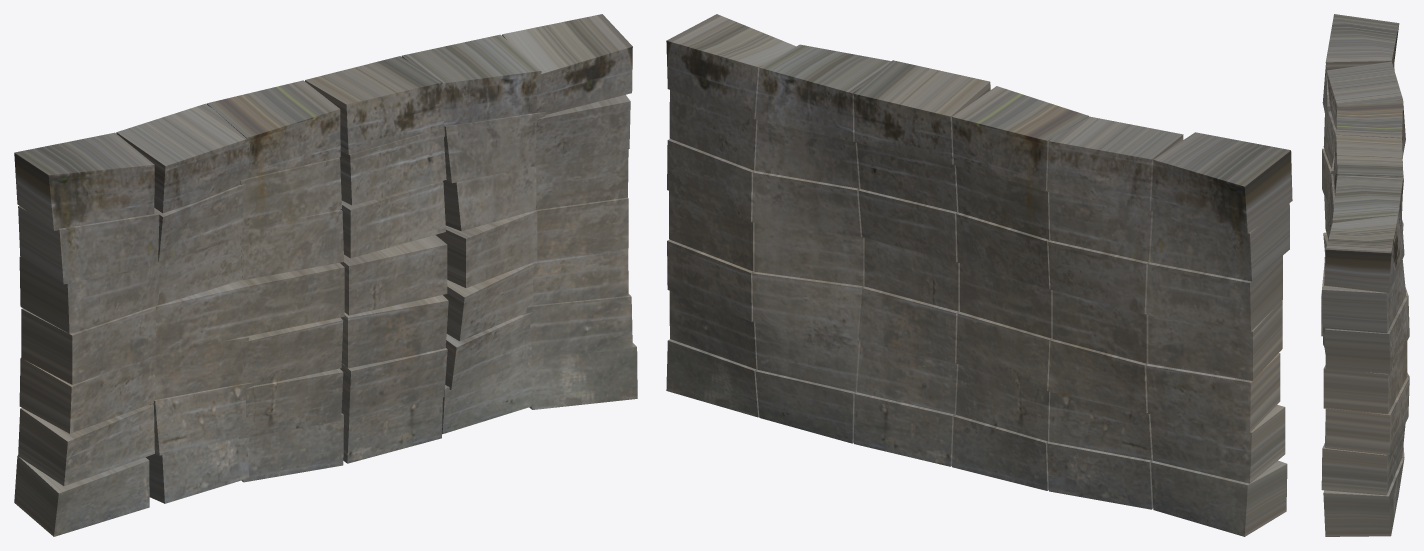
File: stone_wall_square.fbx
3 renders of one model, left to right at view 1: azimuth 30°, elevation 25°; view 2: azimuth 150°, elevation 25°; view 3: azimuth 270°, elevation 25°, orthographic. The views are drawn at different scales.
Visible parts, largest first — view 1: stone_wall; view 2: stone_wall; view 3: stone_wall.
Part boxes in pixels (x1,y1,x2,y2): stone_wall: (14,14,637,536); stone_wall: (666,14,1292,536); stone_wall: (1321,14,1409,536).
Size of the model in its own units: 66.7 by 39.32 by 10.74.
